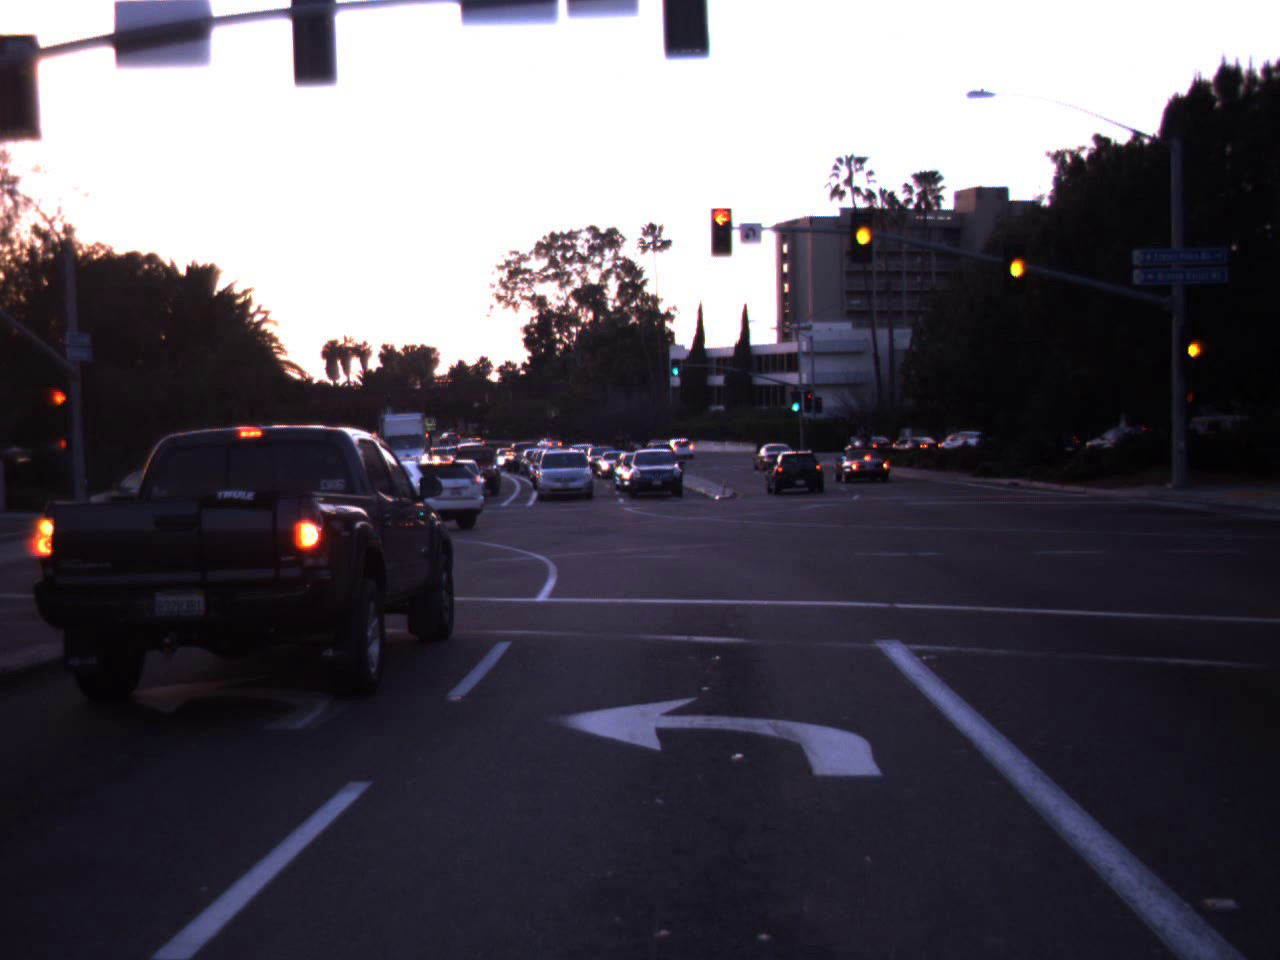go: (786, 379, 804, 414), (668, 343, 683, 378)
stop: (694, 204, 748, 276), (46, 389, 82, 438)
warning: (848, 196, 881, 268), (1001, 229, 1034, 301), (1185, 320, 1206, 374)
